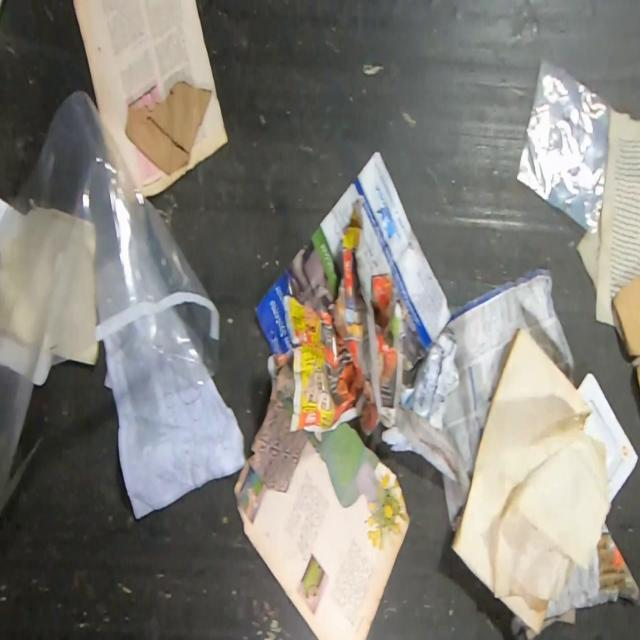cardboard: (610, 271, 640, 395)
soft_plastic: (0, 87, 222, 509), (515, 53, 612, 236)
